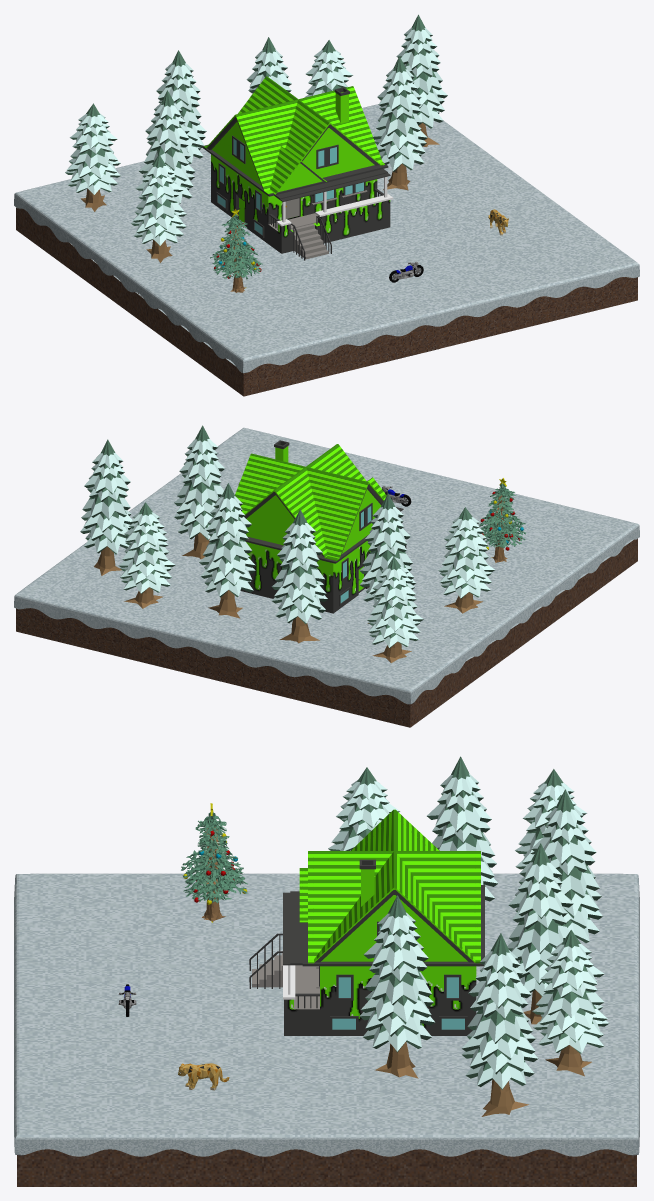
3 views of the same model, one above another, from view 1: azimuth 30°, elevation 25°; view 2: azimuth 150°, elevation 25°; view 3: azimuth 270°, elevation 25° (orthographic). The views are drawn at different scales.
Parts seen in each view (by area): view 1: Cube.003, Cube.754, OBJRANDOM_CHRISTMAS_TREE; view 2: Cube.003, Cube.754, OBJRANDOM_CHRISTMAS_TREE; view 3: Cube.003, Cube.754, OBJRANDOM_CHRISTMAS_TREE, ANIMAL_JAGUAR.
Part boxes in pixels (left/top/right/bottom): Cube.003: left=14, top=14, right=639, bottom=396; Cube.754: left=202, top=76, right=393, bottom=260; OBJRANDOM_CHRISTMAS_TREE: left=210, top=209, right=262, bottom=292; Cube.003: left=14, top=425, right=639, bottom=727; Cube.754: left=235, top=440, right=406, bottom=613; OBJRANDOM_CHRISTMAS_TREE: left=479, top=478, right=525, bottom=562; Cube.003: left=14, top=756, right=639, bottom=1186; Cube.754: left=249, top=809, right=484, bottom=1035; OBJRANDOM_CHRISTMAS_TREE: left=181, top=803, right=248, bottom=922; ANIMAL_JAGUAR: left=178, top=1063, right=229, bottom=1090.
Bounding box in the file's own units: 4040 × 1692 × 4040.
36 materials, 4 textured.
